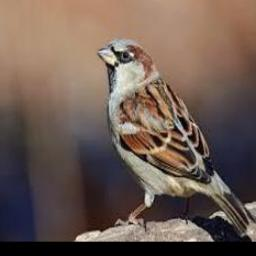Sparrow: (98, 38, 249, 238)
